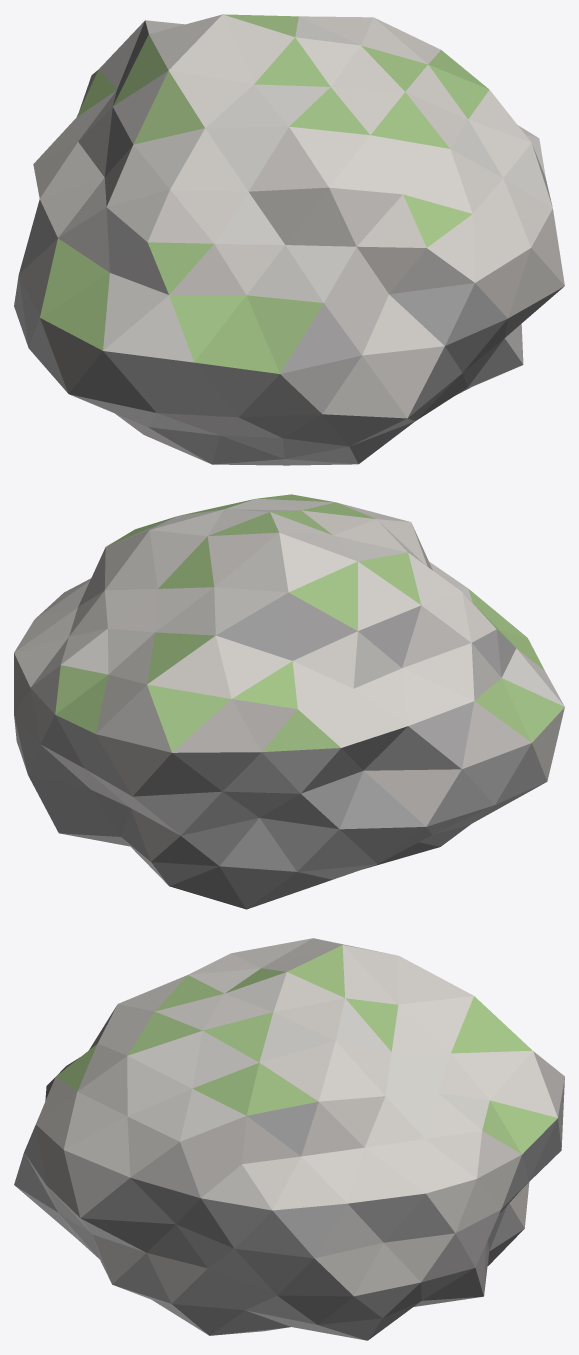
The model's file is RockMedium.glb.
3 views of the same model, one above another, from view 1: azimuth 30°, elevation 25°; view 2: azimuth 150°, elevation 25°; view 3: azimuth 270°, elevation 25° (orthographic). The views are drawn at different scales.
Parts seen in each view (by area): view 1: RockMedium_Rock; view 2: RockMedium_Rock; view 3: RockMedium_Rock.
Part boxes in pixels (x1,y1,x2,y2): RockMedium_Rock: [14, 14, 564, 465]; RockMedium_Rock: [14, 494, 564, 909]; RockMedium_Rock: [14, 938, 564, 1340].
Bounding box in the file's own units: 1.91 × 1.29 × 1.97.
